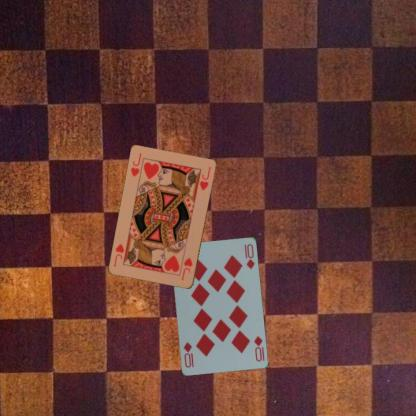10d: (252, 334, 263, 362)
Jh: (128, 151, 144, 178), (178, 256, 194, 282)
